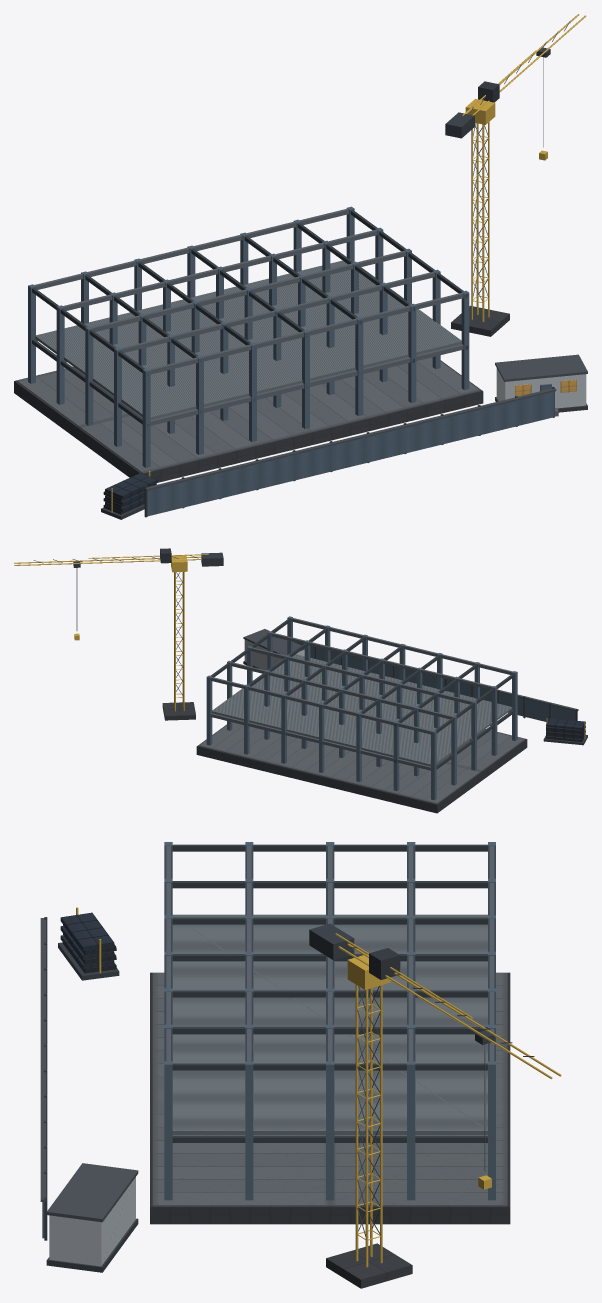
File: trg-2-construction.glb
3 views of the same model, one above another, from view 1: azimuth 30°, elevation 25°; view 2: azimuth 150°, elevation 25°; view 3: azimuth 270°, elevation 25° (orthographic). The views are drawn at different scales.
Bounding box in the file's own units: 54.02 × 18.75 × 26.74.
19 materials, 11 textured.
